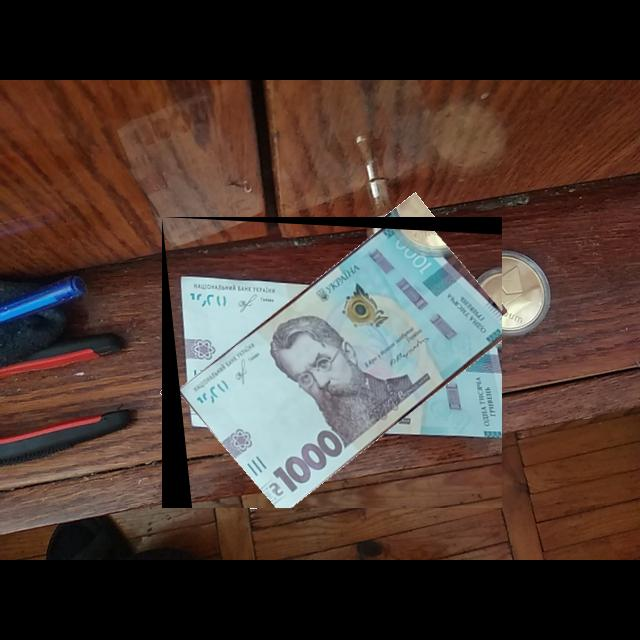1000uah: (177, 227, 503, 509)
